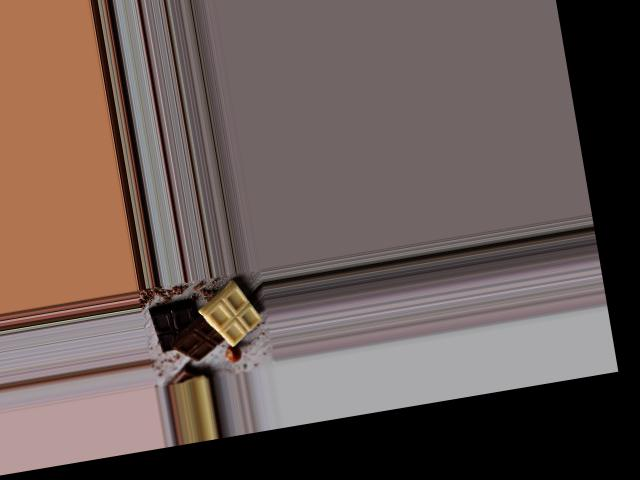chocolate: (142, 282, 266, 368)
